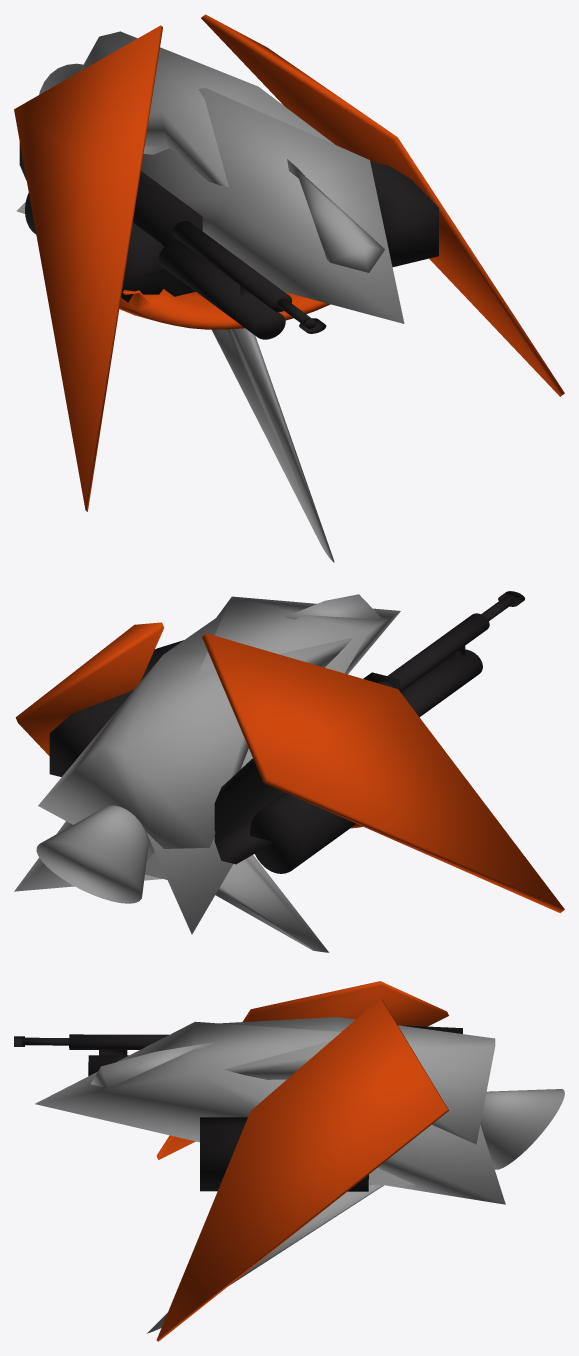
Rendered from Enemy.obj.
3 views of the same model, one above another, from view 1: azimuth 30°, elevation 25°; view 2: azimuth 150°, elevation 25°; view 3: azimuth 270°, elevation 25° (orthographic). The views are drawn at different scales.
Visible parts, largest first — view 1: 本体_立方体.001, 装甲板_左.001_立方体.002, 武器_円柱.002, 装甲板_左.002_立方体.001, 弾薬箱_立方体.001, トーラス.001; view 2: 本体_立方体.001, 装甲板_左.001_立方体.002, 武器_円柱.002, 装甲板_左.002_立方体.001, 弾薬箱_立方体.001; view 3: 本体_立方体.001, 装甲板_左.002_立方体.001, 装甲板_左.001_立方体.002, 武器_円柱.002, 弾薬箱_立方体.001, Cube.
Boxes of the visible parts, bbox=[...] form: 本体_立方体.001: bbox=[16, 31, 404, 562]; 装甲板_左.001_立方体.002: bbox=[14, 25, 162, 511]; 武器_円柱.002: bbox=[19, 142, 326, 339]; 装甲板_左.002_立方体.001: bbox=[201, 14, 564, 396]; 弾薬箱_立方体.001: bbox=[370, 161, 438, 266]; トーラス.001: bbox=[119, 289, 330, 329]; 本体_立方体.001: bbox=[14, 594, 400, 952]; 装甲板_左.001_立方体.002: bbox=[202, 633, 564, 912]; 武器_円柱.002: bbox=[214, 591, 524, 873]; 装甲板_左.002_立方体.001: bbox=[15, 622, 163, 755]; 弾薬箱_立方体.001: bbox=[49, 640, 183, 776]; 本体_立方体.001: bbox=[35, 1017, 564, 1333]; 装甲板_左.002_立方体.001: bbox=[156, 998, 448, 1341]; 装甲板_左.001_立方体.002: bbox=[156, 981, 448, 1159]; 武器_円柱.002: bbox=[14, 1025, 462, 1076]; 弾薬箱_立方体.001: bbox=[200, 1117, 368, 1191]; Cube: bbox=[368, 1168, 415, 1185].
Size of the model in its own units: 14.65 by 12.7 by 18.49.
